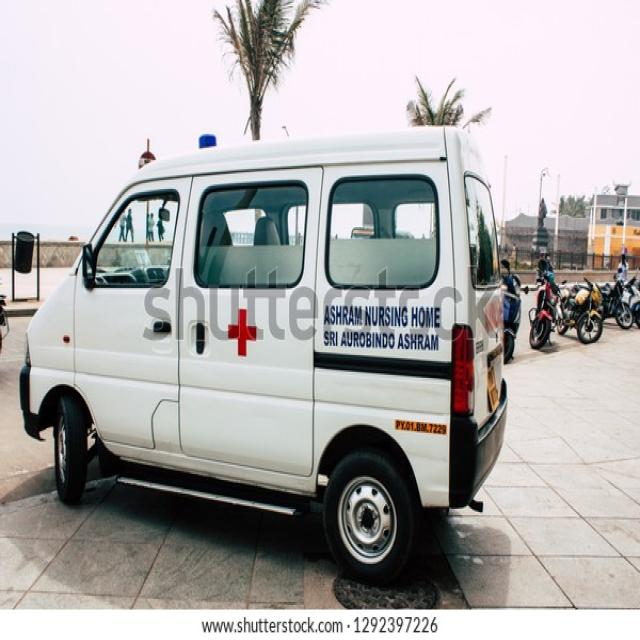ambulance: (25, 124, 508, 576)
